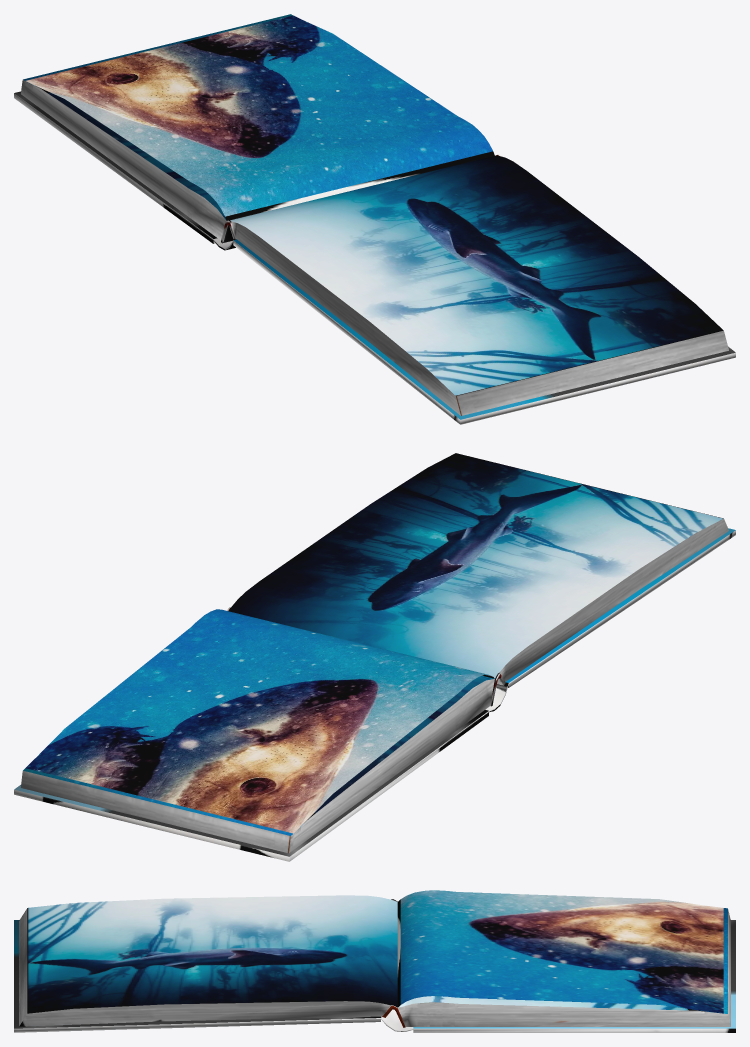
File: libro2.glb
The picture shows the model from 3 angles, top to bottom: view 1: azimuth 30°, elevation 25°; view 2: azimuth 150°, elevation 25°; view 3: azimuth 270°, elevation 25°; orthographic projection. The views are drawn at different scales.
Parts seen in each view (by area): view 1: libro2; view 2: libro2; view 3: libro2.
Boxes of the visible parts, left/top/right/bottom form: libro2: left=14, top=14, right=735, bottom=424; libro2: left=14, top=453, right=735, bottom=861; libro2: left=14, top=890, right=735, bottom=1032.
Bounding box in the file's own units: 0.1951 × 0.0296 × 0.5476.
1 material, 1 textured.
